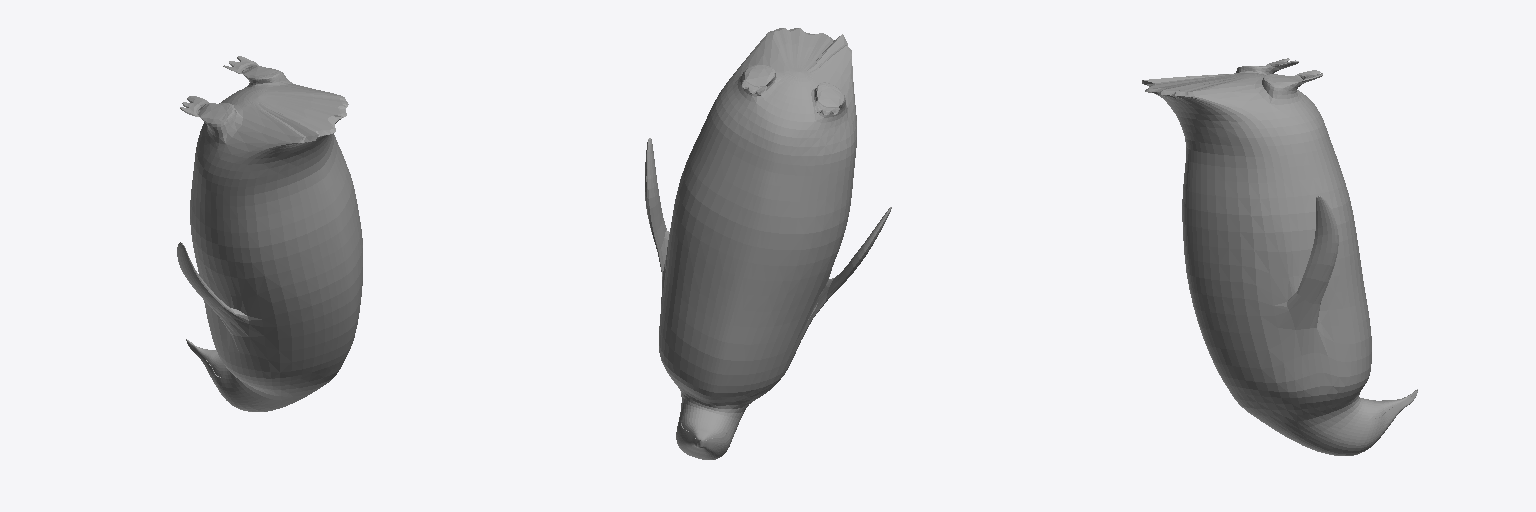
File: penguin.obj
3 views of the same model, side by side, from view 1: azimuth 30°, elevation 25°; view 2: azimuth 150°, elevation 25°; view 3: azimuth 270°, elevation 25° (orthographic).
Parts seen in each view (by area): view 1: Penguin_Cylinder; view 2: Penguin_Cylinder; view 3: Penguin_Cylinder.
Part boxes in pixels (left/top/right/bottom): Penguin_Cylinder: left=177, top=56, right=362, bottom=411; Penguin_Cylinder: left=645, top=28, right=891, bottom=459; Penguin_Cylinder: left=1142, top=58, right=1417, bottom=455.
Size of the model in its own units: 326 by 574 by 391.